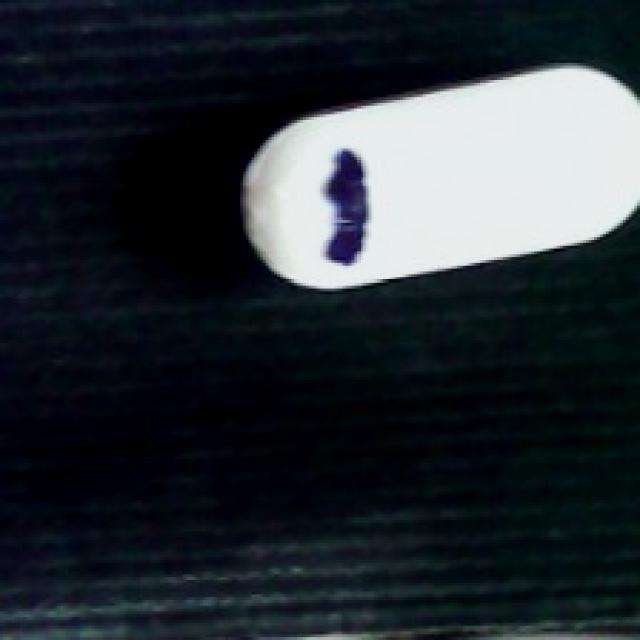defected: (229, 69, 637, 294)
